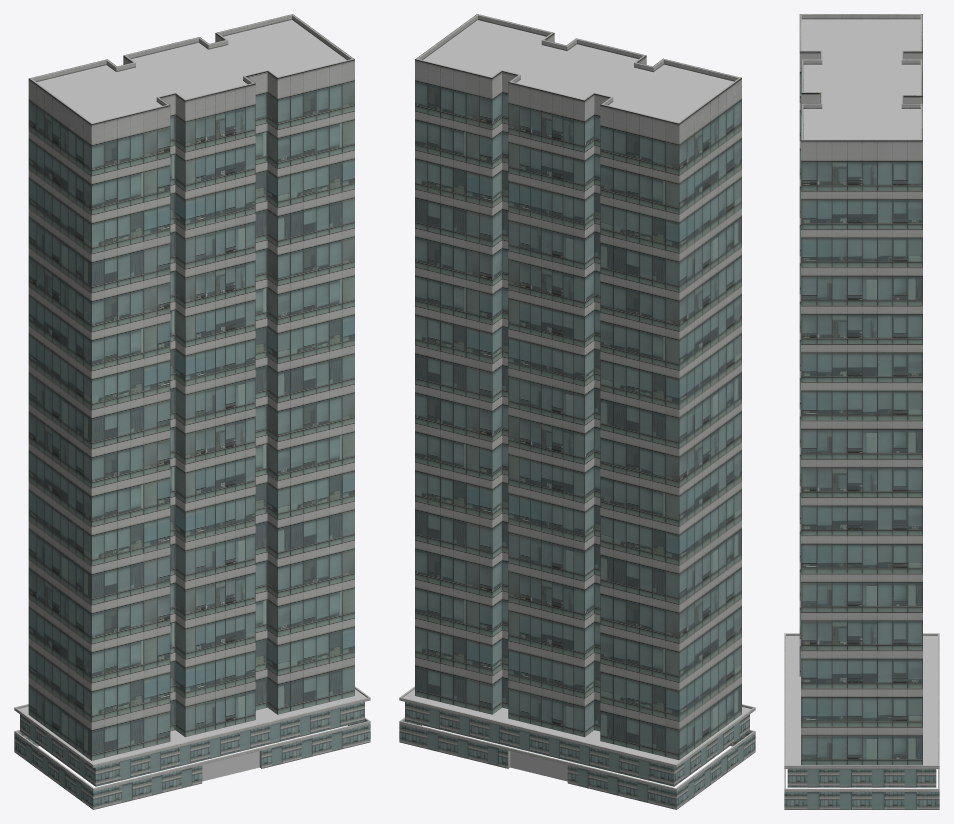
The model's file is High Rise Building.fbx.
3 renders of one model, left to right at view 1: azimuth 30°, elevation 25°; view 2: azimuth 150°, elevation 25°; view 3: azimuth 270°, elevation 25°, orthographic.
Parts seen in each view (by area): view 1: Object012_09 - Default_0; view 2: Object012_09 - Default_0; view 3: Object012_09 - Default_0.
Part boxes in pixels (box(x1,y1,x2,y2)): Object012_09 - Default_0: box(14, 14, 370, 809); Object012_09 - Default_0: box(399, 14, 755, 809); Object012_09 - Default_0: box(784, 14, 939, 809).
Size of the model in its own units: 2441 by 5707 by 1206.
3 materials, 1 textured.
